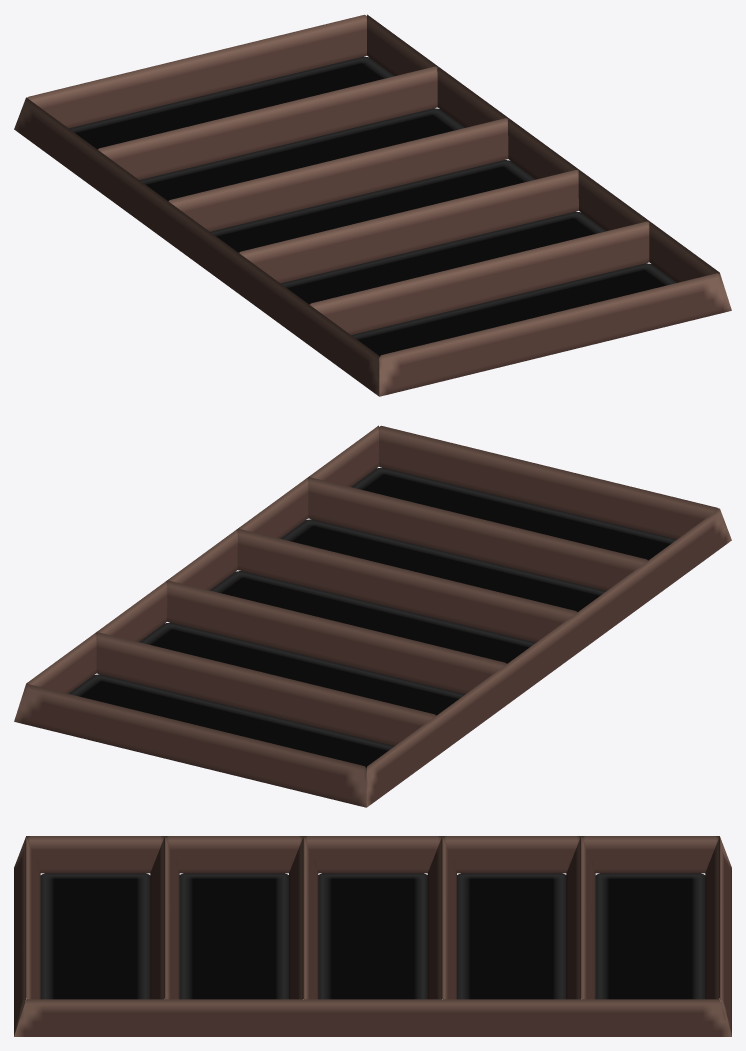
The model's file is stormdrain.fbx.
3 views of the same model, one above another, from view 1: azimuth 30°, elevation 25°; view 2: azimuth 150°, elevation 25°; view 3: azimuth 270°, elevation 25° (orthographic).
Visible parts, largest first — view 1: Cube.005; view 2: Cube.005; view 3: Cube.005.
Part boxes in pixels (x1,y1,x2,y2): Cube.005: (14, 14, 731, 396); Cube.005: (14, 425, 731, 807); Cube.005: (14, 836, 731, 1036).
Size of the model in its own units: 269 by 25.64 by 483.
